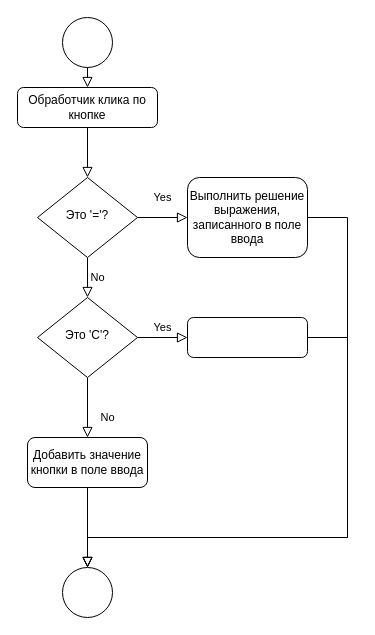
Image size: 375x635. Some labels were removed from this diagram. The shapes that lost their labels are listed below. From the top down, each one's box as (x1, y1, x2, y2) in pixels, then its label:
(62, 16, 112, 68): Начало
(186, 316, 308, 358): Очистить поле ввода
(62, 566, 112, 618): Конец
